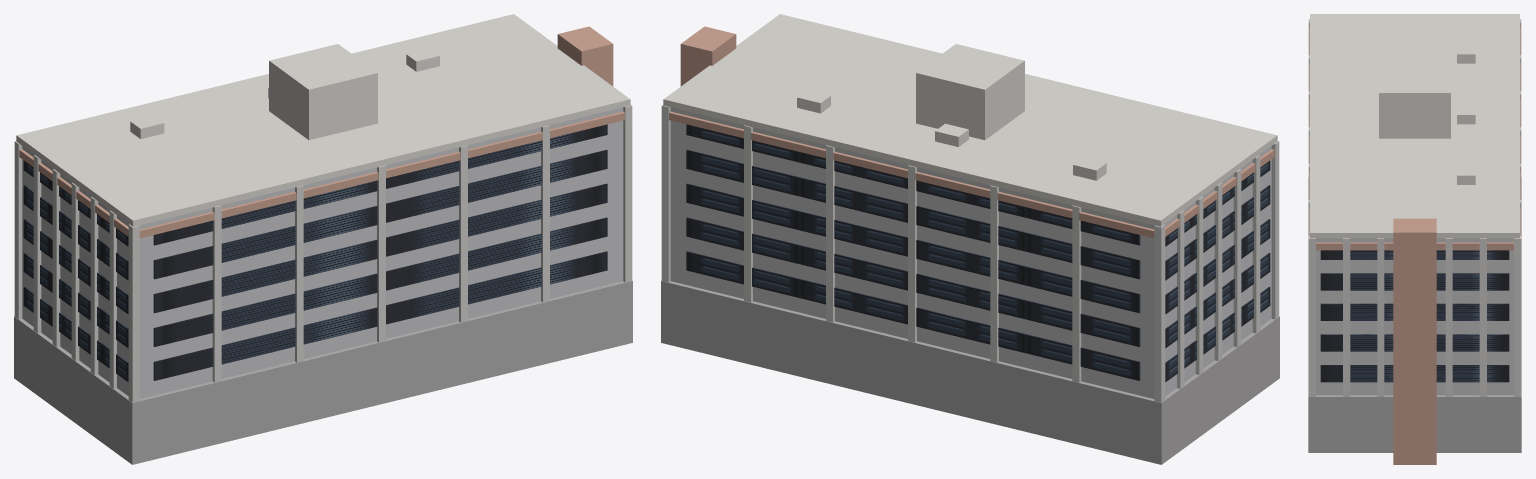
The model's file is skyline-tower-midrise-tank.glb.
The picture shows the model from 3 angles, left to right: view 1: azimuth 30°, elevation 25°; view 2: azimuth 150°, elevation 25°; view 3: azimuth 270°, elevation 25°; orthographic projection. The views are drawn at different scales.
Parts seen in each view (by area): view 1: parapet, windows, body-1, podium, pilasters, roof-detail, crown-band, core; view 2: parapet, windows, body-1, podium, pilasters, roof-detail, crown-band, core; view 3: parapet, core, body-1, podium, windows, pilasters, roof-detail, crown-band.
Boxes of the visible parts, x1,y1,x2,y2 form: parapet: (16, 14, 630, 226); windows: (23, 124, 607, 382); body-1: (22, 107, 623, 398); podium: (14, 281, 632, 464); pilasters: (14, 105, 632, 402); roof-detail: (130, 44, 439, 140); crown-band: (19, 111, 624, 238); core: (557, 26, 613, 86); parapet: (663, 14, 1277, 226); windows: (686, 124, 1270, 382); body-1: (670, 107, 1271, 398); podium: (661, 281, 1279, 464); pilasters: (661, 105, 1279, 402); roof-detail: (797, 44, 1106, 180); crown-band: (669, 111, 1274, 238); core: (680, 26, 736, 86); parapet: (1310, 14, 1519, 238); core: (1393, 218, 1436, 464); body-1: (1316, 238, 1513, 395); podium: (1308, 177, 1521, 452); windows: (1320, 250, 1509, 382); pilasters: (1308, 19, 1521, 396); roof-detail: (1379, 44, 1475, 184); crown-band: (1309, 27, 1520, 250).
Bounding box in the file's own units: 53.6 × 28.5 × 20.8.
Materials: 6 (1 with a texture image).
